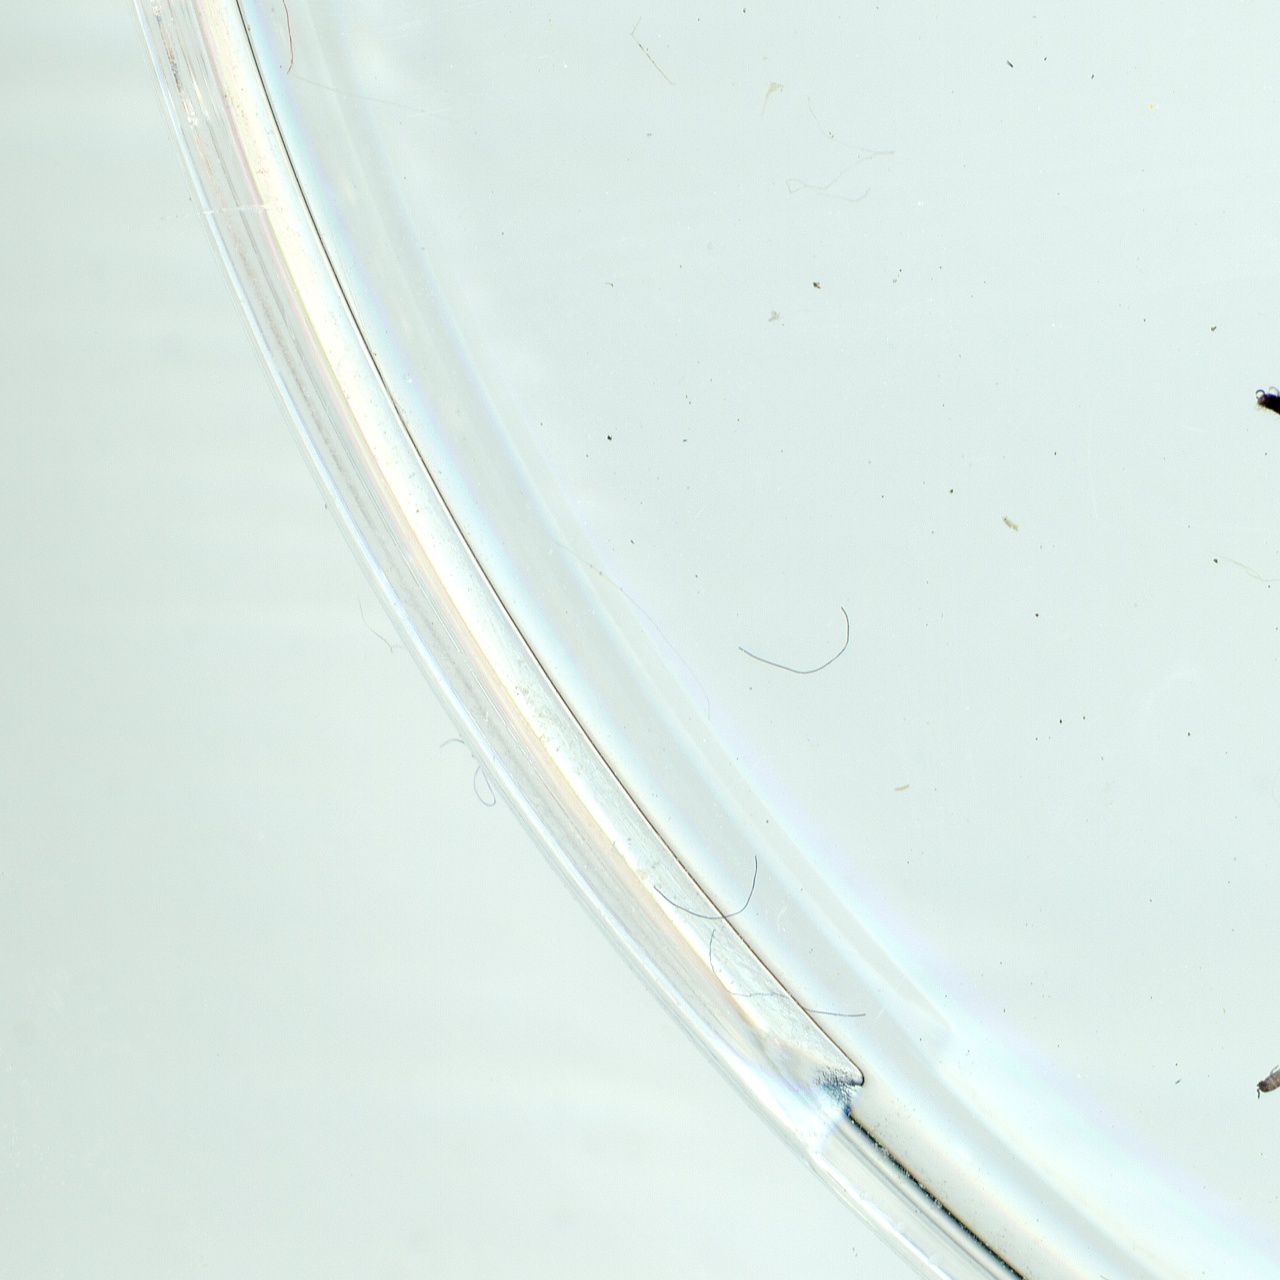arthropod: (1250, 380, 1280, 448), (1252, 1058, 1280, 1104)
